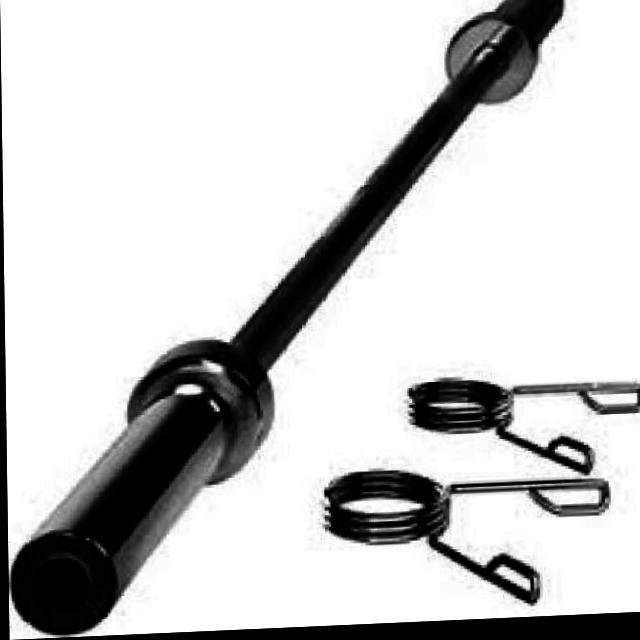barbell: (8, 336, 291, 639)
